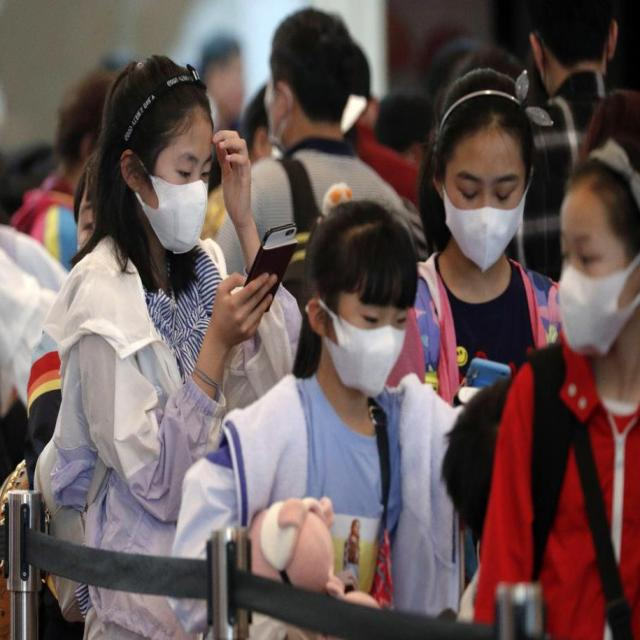face: (290, 194, 426, 400), (97, 41, 223, 262), (427, 64, 547, 276), (556, 137, 640, 371), (212, 54, 244, 118)
